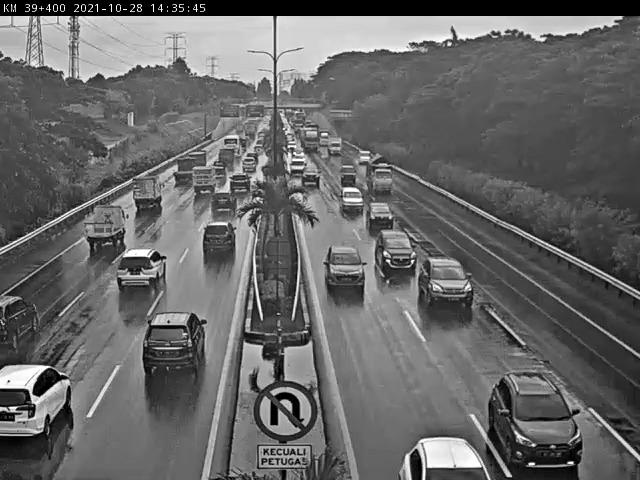car: (135, 300, 212, 386), (405, 391, 473, 480), (502, 370, 569, 452), (6, 361, 49, 438), (106, 247, 165, 299), (5, 292, 46, 345), (415, 247, 468, 287), (372, 219, 414, 260), (194, 232, 238, 268), (326, 238, 363, 278), (202, 204, 233, 230), (366, 151, 386, 187), (332, 178, 358, 204), (183, 142, 208, 167), (358, 191, 384, 215), (224, 179, 246, 203), (336, 156, 359, 178), (304, 159, 316, 184), (218, 147, 231, 168), (239, 162, 254, 179), (290, 154, 305, 170), (209, 163, 222, 181), (354, 146, 366, 159)
small truck: (88, 202, 128, 250), (125, 180, 161, 203), (184, 172, 209, 200), (326, 135, 341, 154)
